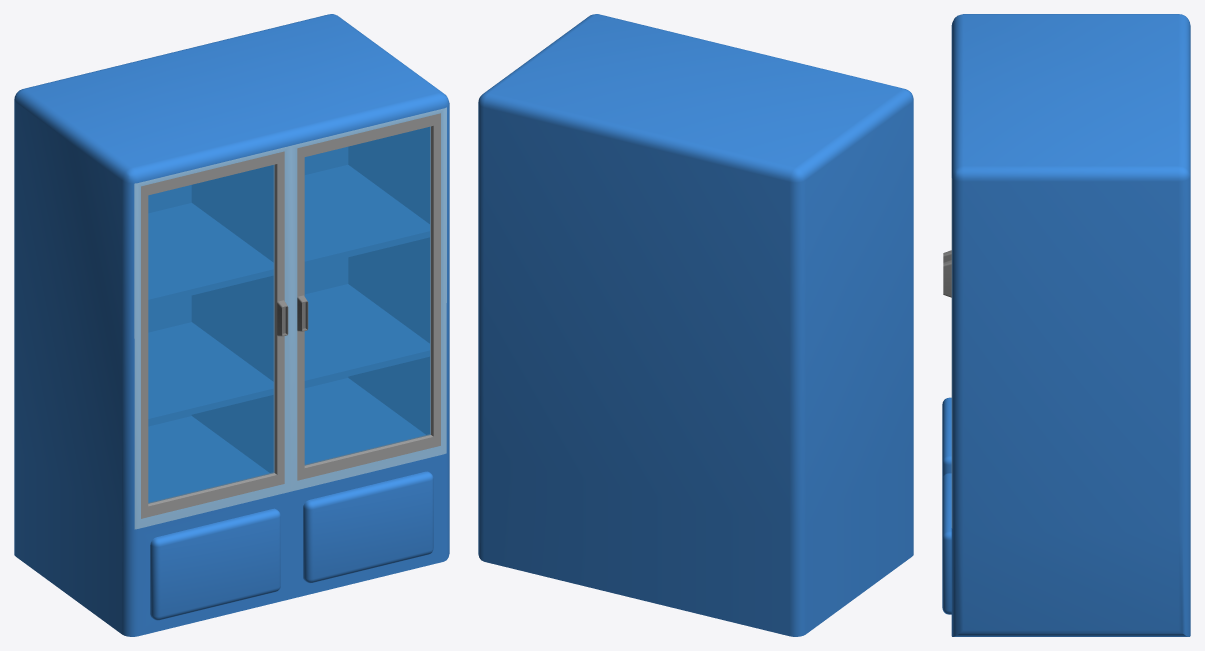
File: dolap.fbx
3 renders of one model, left to right at view 1: azimuth 30°, elevation 25°; view 2: azimuth 150°, elevation 25°; view 3: azimuth 270°, elevation 25°, orthographic.
Visible parts, largest first — view 1: dolap, solKapi, sagKapi; view 2: dolap; view 3: dolap.
Boxes of the visible parts, x1,y1,x2,y2 form: dolap: (14, 14, 449, 636); solKapi: (141, 151, 288, 518); sagKapi: (297, 113, 440, 480); dolap: (478, 14, 913, 636); dolap: (942, 14, 1190, 636).
Bounding box in the file's own units: 282 × 383 × 183.
